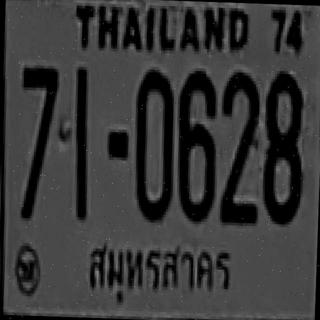N00: (132, 67, 175, 219)
N02: (218, 95, 260, 222), (218, 70, 258, 202)
N06: (174, 69, 216, 220)
N07: (17, 66, 58, 209), (18, 65, 58, 180), (18, 65, 58, 166)
N08: (260, 70, 305, 222)
P58: (81, 236, 236, 311)
